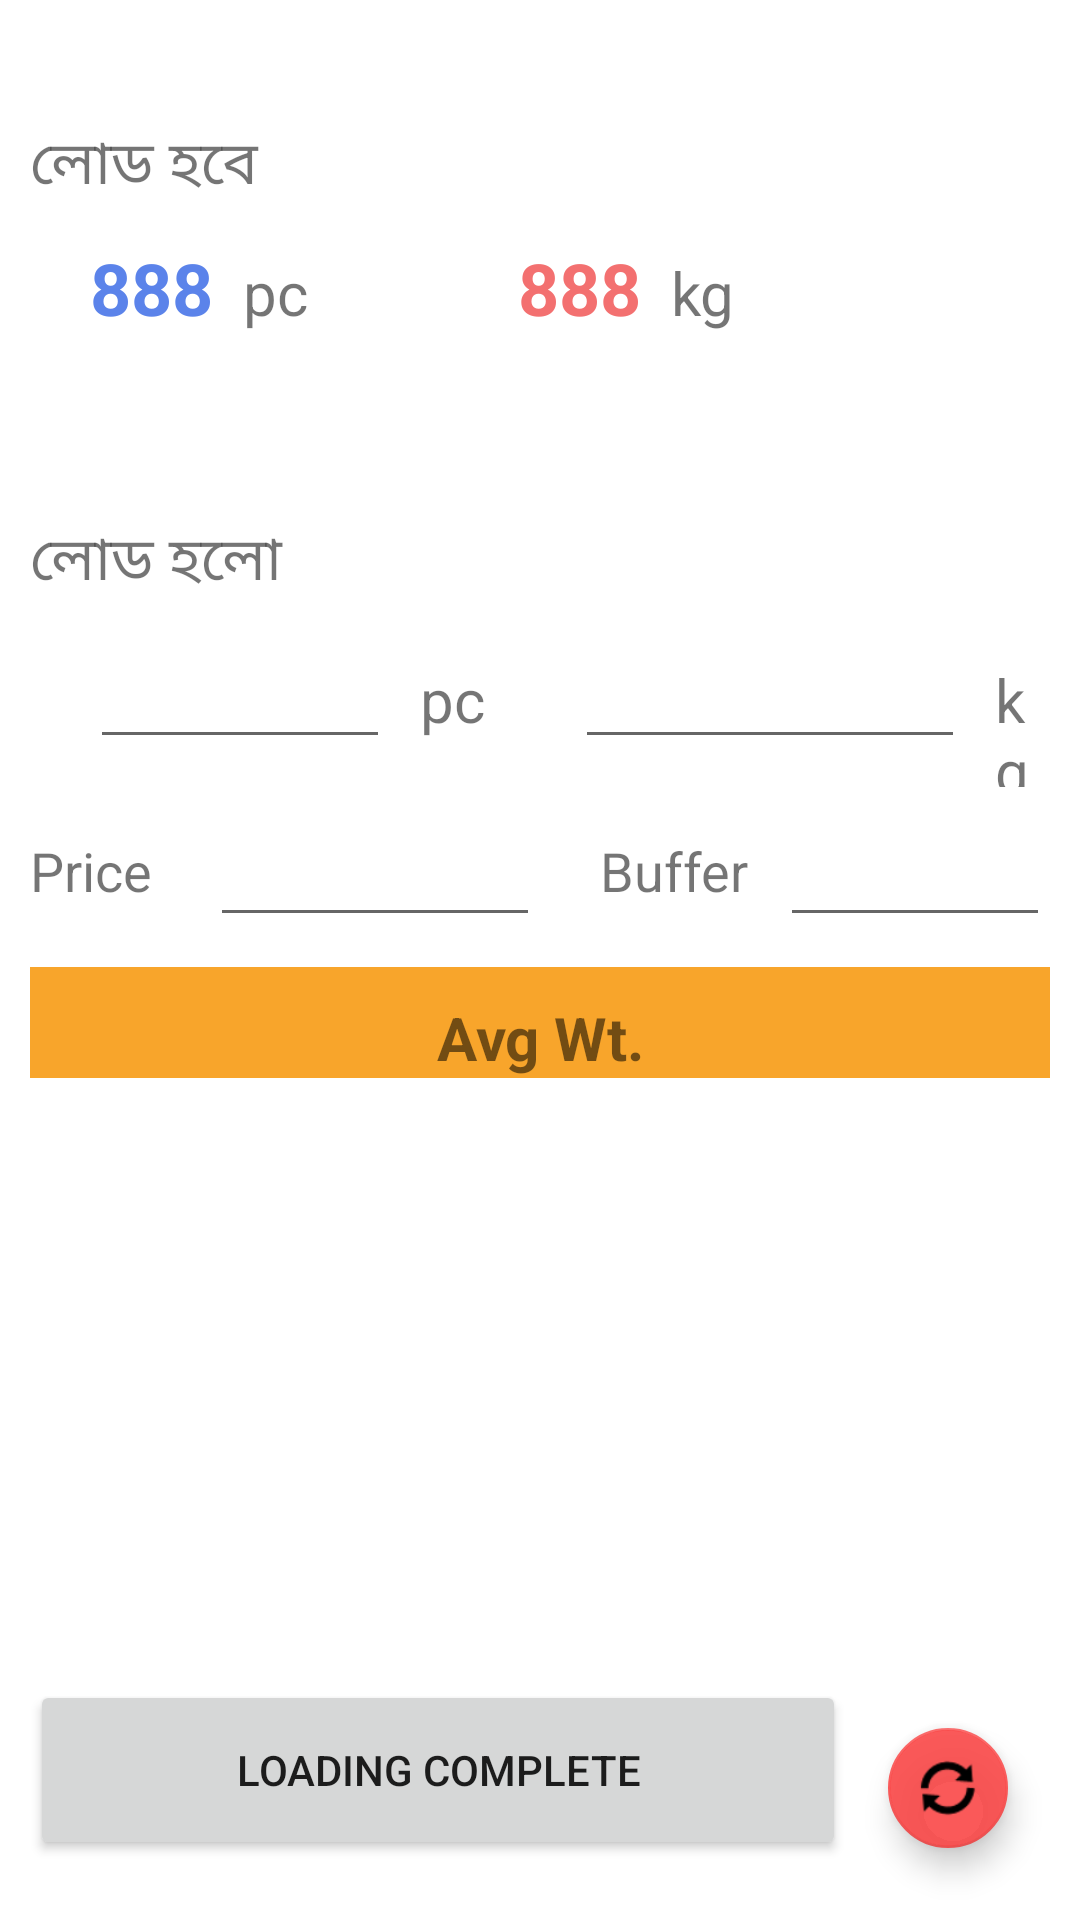

Icons on this 1080*1920 Android screen, each with the point to tap as (x=x, y=y):
popup sync: (x=949, y=1794)
